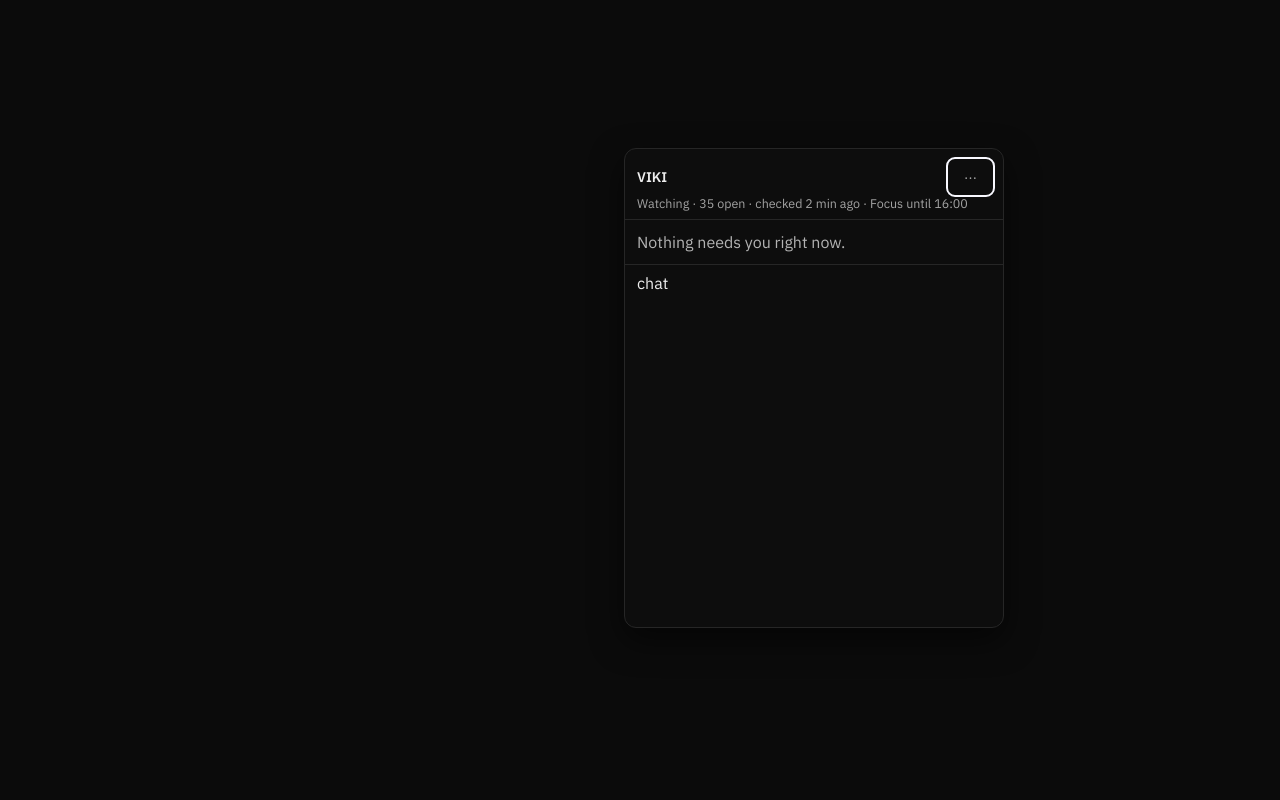
Test: the header menu › a focus spell: End focus instead of Focus for 1 hour
The width and height of the screenshot is (1280, 800).
Click the button named "More".
click(970, 177)  # box left=950, top=161, right=991, bottom=193
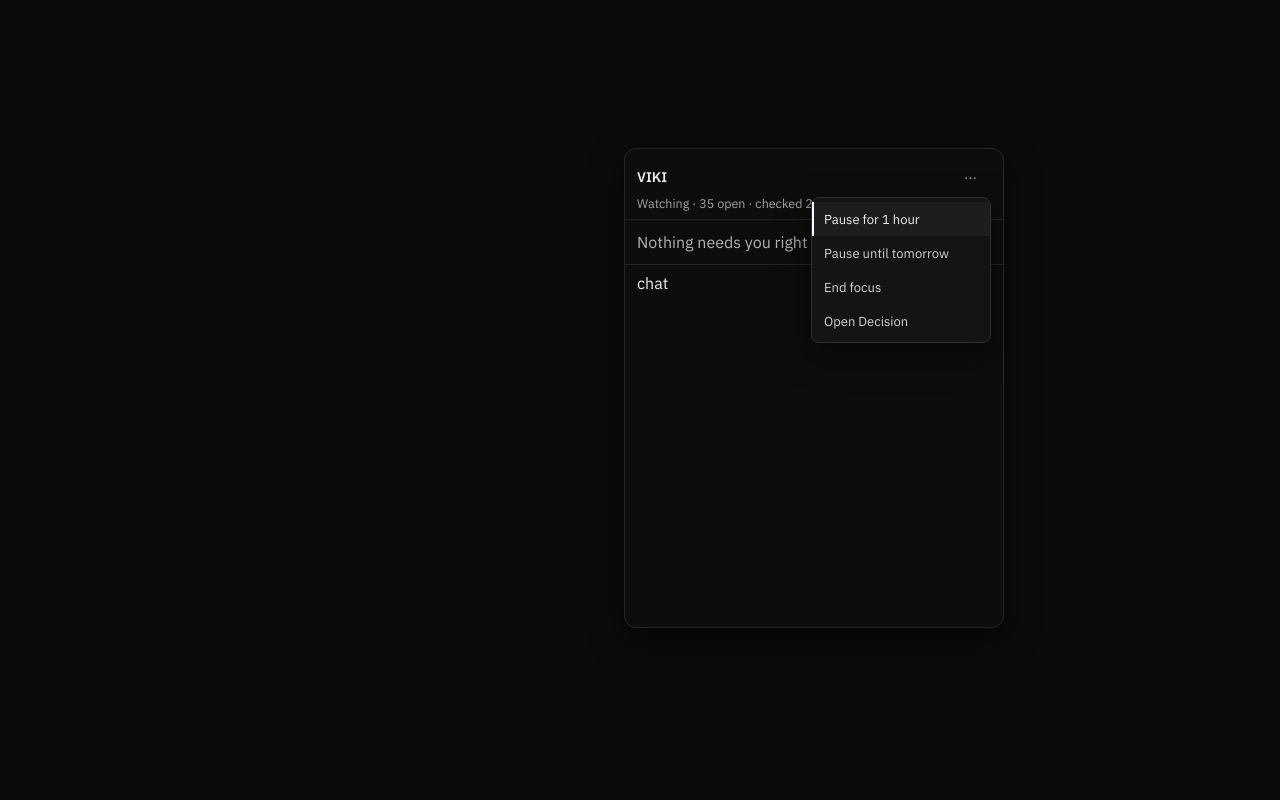
Check: the menu items read "Pause for 1 hour", "Pause until tomorrow", "End focus", "Open Decision", in this order, box left=812, top=202, right=990, bottom=236; left=812, top=236, right=990, bottom=270; left=812, top=270, right=990, bottom=304; left=812, top=304, right=990, bottom=338
